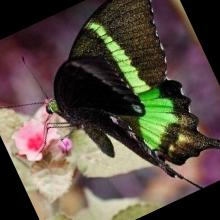butterfly: (48, 0, 220, 177)
